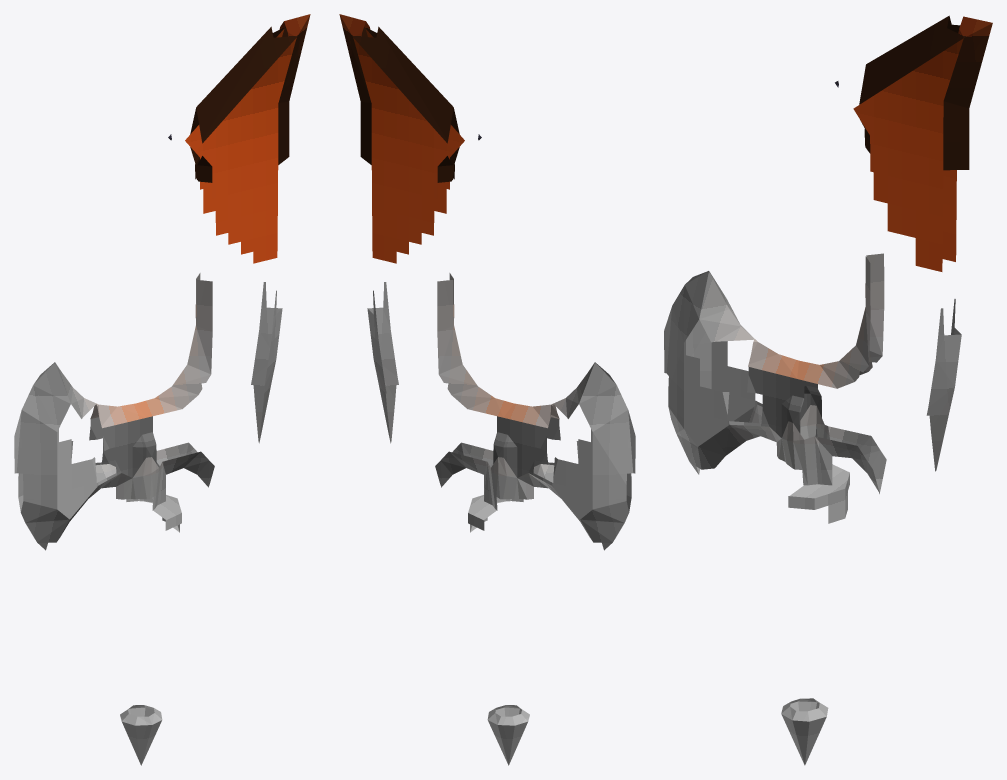
Rendered from colossus.obj.
3 renders of one model, left to right at view 1: azimuth 30°, elevation 25°; view 2: azimuth 150°, elevation 25°; view 3: azimuth 330°, elevation 25°, orthographic. The views are drawn at different scales.
Bounding box in the file's own units: 59.14 × 136 × 14.33.
